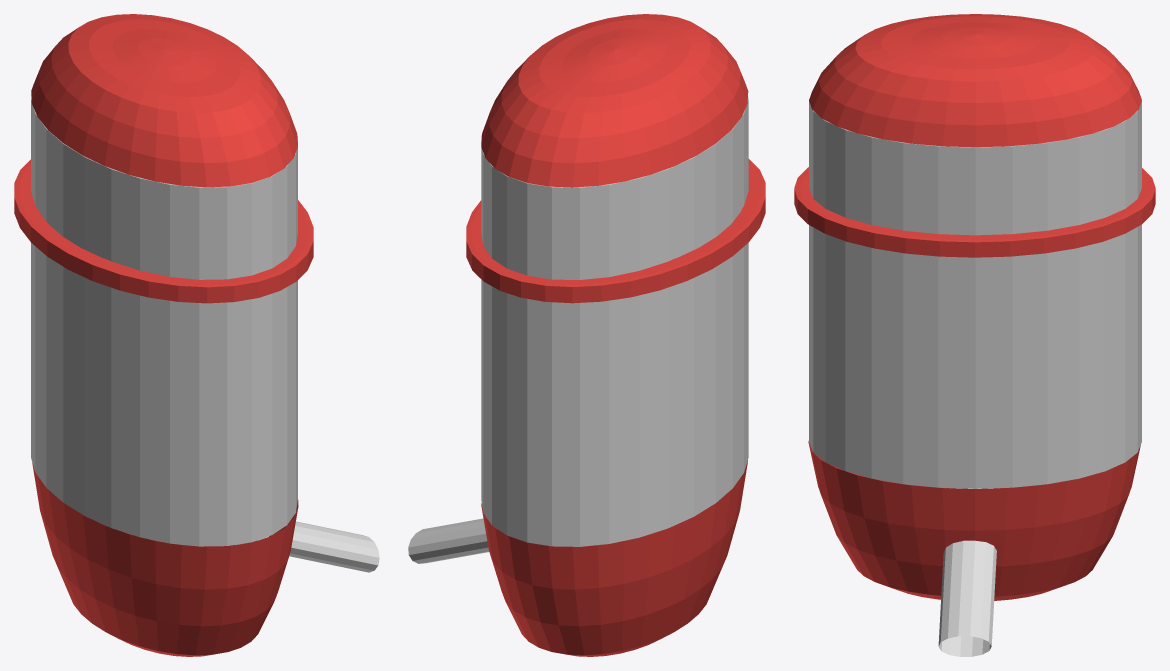
File: bebedouro.fbx
The picture shows the model from 3 angles, left to right: view 1: azimuth 30°, elevation 25°; view 2: azimuth 150°, elevation 25°; view 3: azimuth 270°, elevation 25°; orthographic projection. The views are drawn at different scales.
Parts seen in each view (by area): view 1: Sphere, Cylinder.001; view 2: Sphere, Cylinder.001; view 3: Sphere, Cylinder.001.
Boxes of the visible parts, x1,y1,x2,y2 form: Sphere: (14,14,313,656); Cylinder.001: (235,521,379,572); Sphere: (466,14,765,656); Cylinder.001: (408,518,489,563); Sphere: (794,14,1155,600); Cylinder.001: (938,488,999,656).
Bounding box in the file's own units: 61.85 × 109 × 63.88.
